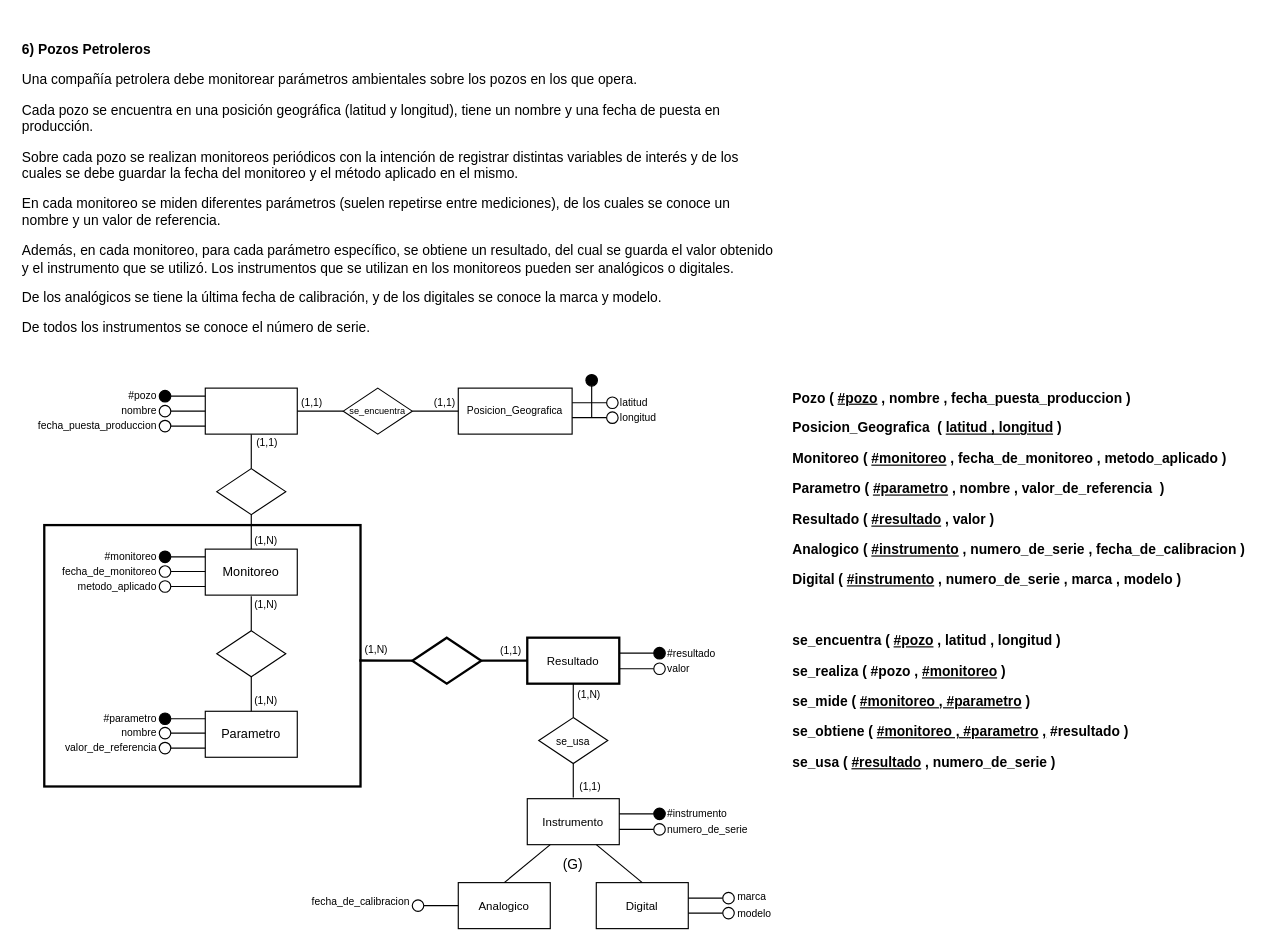
Image size: 1270x949. Some labels were removed from this diagram. The shapes that lost their labels are listed below. From the top down, each one's centre as x and y in pixels, then its label:
At [250,410]: "Pozo".
At [251,491]: "se_realiza".
At [251,653]: "se_mide".
At [446,660]: "se_obtiene".
